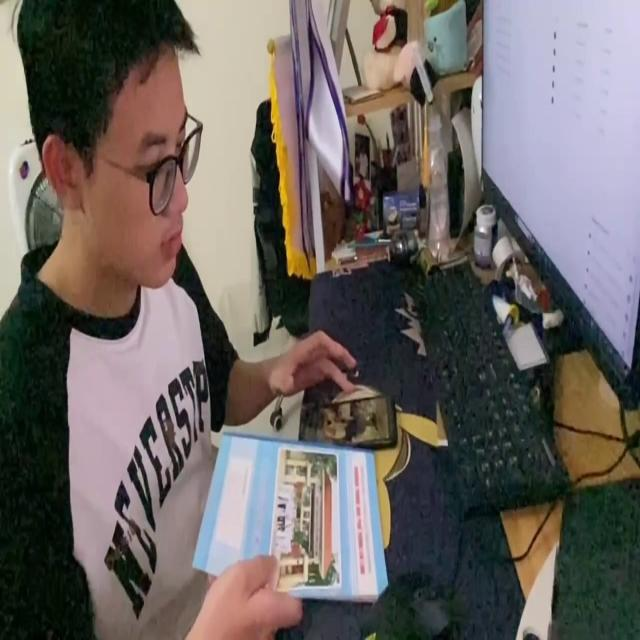book: (187, 427, 387, 605)
laptop: (479, 0, 640, 406)
phone: (297, 393, 399, 456)
student: (5, 0, 357, 640)
